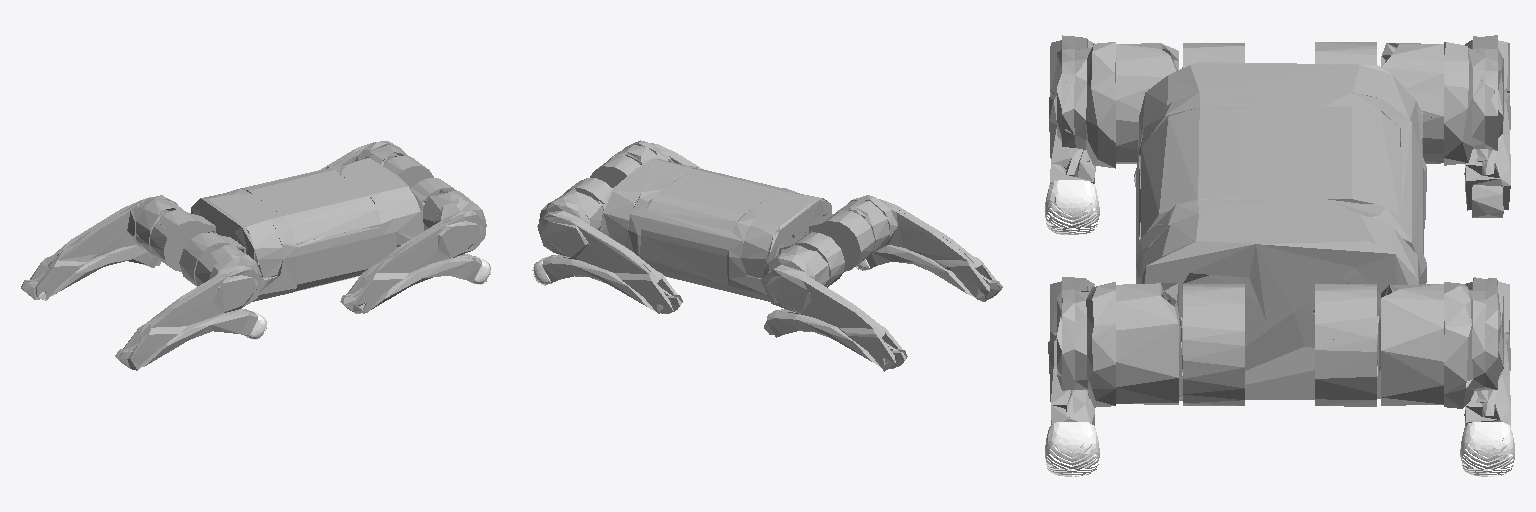
URDF robot description (orix_dog):
<?xml version="1.0" encoding="utf-8"?>
<!-- This URDF was automatically created by SolidWorks to URDF Exporter! Originally created by Stephen Brawner (brawner@gmail.com)
     Commit Version: 1.6.0-4-g7f85cfe  Build Version: 1.6.7995.38578
     For more information, please see http://wiki.ros.org/sw_urdf_exporter -->
<!-- Collision geometry simplified (mesh → primitives) and joint limits updated to match Unitree Go2 -->
<robot name="orix_dog">
  <link name="base_link">
    <inertial>
      <origin xyz="-3.53434898476834E-05 0.00768766575415091 0.055927696956682" rpy="0 0 0" />
      <mass value="7.50787749444963" />
      <inertia ixx="0.052694" ixy="0.000021" ixz="0.000014" iyy="0.089762" iyz="-0.002754" izz="0.082976" />
    </inertial>
    <visual>
      <origin xyz="0 0 0" rpy="0 0 0" />
      <geometry>
        <mesh filename="package://orix_dog/meshes/base_link.STL" />
      </geometry>
      <material name="">
        <color rgba="0.752941176470588 0.752941176470588 0.752941176470588 1" />
      </material>
    </visual>
    <collision>
      <origin xyz="0 0.000 0.06" rpy="0 0 0" />
      <geometry>
        <box size="0.297 0.192 0.126" />
      </geometry>
    </collision>
  </link>

  <!-- ==================== FL (Front Left) ==================== -->
  <link name="FL_hip">
    <inertial>
      <origin xyz="0.049604 0.002125 0.000069" rpy="0 0 0" />
      <mass value="0.635130" />
      <inertia ixx="0.000346" ixy="-0.000068" ixz="-0.000002" iyy="0.002104" iyz="0" izz="0.001927" />
    </inertial>
    <visual>
      <origin xyz="0 0 0" rpy="0 0 0" />
      <geometry>
        <mesh filename="package://orix_dog/meshes/FL_hip.STL" />
      </geometry>
      <material name="">
        <color rgba="0.752941176470588 0.752941176470588 0.752941176470588 1" />
      </material>
    </visual>
    <collision>
      <origin xyz="0.05 0.030 0" rpy="0 1.5707963267948966 1.5707963267948966" />
      <geometry>
        <cylinder radius="0.042" length="0.109" />
      </geometry>
    </collision>
  </link>
  <joint name="FL_hip_joint" type="revolute">
    <origin xyz="0.1485 0.0460668273524311 0.065138363032664" rpy="0 0 0" />
    <parent link="base_link" />
    <child link="FL_hip" />
    <axis xyz="-1 0 0" />
    <limit lower="-0.5" upper="0.5" effort="18" velocity="35" />
  </joint>

  <link name="FL_thigh">
    <inertial>
      <origin xyz="-0.031688 0.047208 -0.009412" rpy="0 0 0" />
      <mass value="1.178401" />
      <inertia ixx="0.004256" ixy="0.002820" ixz="-0.001738" iyy="0.006966" iyz="0.000819" izz="0.009306" />
    </inertial>
    <visual>
      <origin xyz="0 0 0" rpy="0 0 0" />
      <geometry>
        <mesh filename="package://orix_dog/meshes/FL_thigh.STL" />
      </geometry>
      <material name="">
        <color rgba="0.752941176470588 0.752941176470588 0.752941176470588 1" />
      </material>
    </visual>
    <collision>
      <origin xyz="-0.096 0.075 -0.020" rpy="0 -0.33 0" />
      <geometry>
        <box size="0.22 0.02 0.05" />
      </geometry>
    </collision>
  </link>
  <joint name="FL_thigh_joint" type="revolute">
    <origin xyz="0.0499999999999999 0.0224250000000002 7.2042212115147E-05" rpy="0 0 0" />
    <parent link="FL_hip" />
    <child link="FL_thigh" />
    <axis xyz="0 -1 0" />
    <limit lower="-0.5" upper="1" effort="18" velocity="35" />
  </joint>

  <link name="FL_calf">
    <inertial>
      <origin xyz="0.118474 0.000045 0.013651" rpy="0 0 0" />
      <mass value="0.081961" />
      <inertia ixx="0.000035" ixy="0" ixz="-0.000161" iyy="0.001644" iyz="0" izz="0.001623" />
    </inertial>
    <visual>
      <origin xyz="0 0 0" rpy="0 0 0" />
      <geometry>
        <mesh filename="package://orix_dog/meshes/FL_calf.STL" />
      </geometry>
      <material name="">
        <color rgba="0.752941176470588 0.752941176470588 0.752941176470588 1" />
      </material>
    </visual>
    <collision>
      <origin xyz="0.065 0 0.012" rpy="0 1.35 0" />
      <geometry>
        <cylinder radius="0.013" length="0.13" />
      </geometry>
    </collision>
  </link>
  <joint name="FL_calf_joint" type="revolute">
    <origin xyz="-0.192765120401938 0.0759500000000002 -0.0749761430004586" rpy="0 0 0" />
    <parent link="FL_thigh" />
    <child link="FL_calf" />
    <axis xyz="0 -1 0" />
    <limit lower="-1.7" upper="0" effort="36" velocity="17.5" />
  </joint>

  <link name="FL_calflower">
    <inertial>
      <origin xyz="0 0 0" rpy="0 0 0" />
      <mass value="0.001" />
      <inertia ixx="1e-6" ixy="0" ixz="0" iyy="1e-6" iyz="0" izz="1e-6" />
    </inertial>
    <collision>
      <origin xyz="0.025 0 0.021" rpy="0 1.5707963267948966 0" />
      <geometry>
        <cylinder radius="0.011" length="0.05" />
      </geometry>
    </collision>
  </link>
  <joint name="FL_calflower_joint" type="fixed">
    <origin xyz="0.13 0 0.004" rpy="0 0 0" />
    <parent link="FL_calf" />
    <child link="FL_calflower" />
  </joint>

  <link name="FL_calflower1">
    <inertial>
      <origin xyz="0 0 0" rpy="0 0 0" />
      <mass value="0.001" />
      <inertia ixx="1e-6" ixy="0" ixz="0" iyy="1e-6" iyz="0" izz="1e-6" />
    </inertial>
    <collision>
      <origin xyz="0.01 0.0 0.01" rpy="0 1.9 0" />
      <geometry>
        <cylinder radius="0.0155" length="0.024" />
      </geometry>
    </collision>
  </link>
  <joint name="FL_calflower1_joint" type="fixed">
    <origin xyz="0.05 0 0.003" rpy="0 0 0" />
    <parent link="FL_calflower" />
    <child link="FL_calflower1" />
  </joint>

  <link name="FL_foot">
    <inertial>
      <origin xyz="0.011659 -0.000003 -0.006791" rpy="0 0 0" />
      <mass value="0.015575" />
      <inertia ixx="0.000004" ixy="0" ixz="0.000001" iyy="0.000006" iyz="0" izz="0.000005" />
    </inertial>
    <visual>
      <origin xyz="0 0 0" rpy="0 0 0" />
      <geometry>
        <mesh filename="package://orix_dog/meshes/FL_foot.STL" />
      </geometry>
      <material name="">
        <color rgba="1 1 1 1" />
      </material>
    </visual>
    <collision>
      <origin xyz="0.008 0 -0.004" rpy="0 0 0" />
      <geometry>
        <sphere radius="0.022" />
      </geometry>
    </collision>
  </link>
  <joint name="FL_foot_joint" type="fixed">
    <origin xyz="0.023594 0 0.002231" rpy="0 0 0" />
    <parent link="FL_calflower1" />
    <child link="FL_foot" />

  </joint>

  <!-- ==================== RL (Rear Left) ==================== -->
  <link name="RL_hip">
    <inertial>
      <origin xyz="-0.049526 0.001759 -0.000065" rpy="0 0 0" />
      <mass value="0.635130" />
      <inertia ixx="0.000343" ixy="0.000057" ixz="-0.000002" iyy="0.002099" iyz="0" izz="0.001920" />
    </inertial>
    <visual>
      <origin xyz="0 0 0" rpy="0 0 0" />
      <geometry>
        <mesh filename="package://orix_dog/meshes/RL_hip.STL" />
      </geometry>
      <material name="">
        <color rgba="0.752941176470588 0.752941176470588 0.752941176470588 1" />
      </material>
    </visual>
    <collision>
      <origin xyz="-0.05 0.030 0" rpy="0 1.5707963267948966 1.5707963267948966" />
      <geometry>
        <cylinder radius="0.042" length="0.109" />
      </geometry>
    </collision>
  </link>
  <joint name="RL_hip_joint" type="revolute">
    <origin xyz="-0.1485 0.04606682735243 0.065138363032664" rpy="0 0 0" />
    <parent link="base_link" />
    <child link="RL_hip" />
    <axis xyz="1 0 0" />
    <limit lower="-0.5" upper="0.5" effort="18" velocity="35" />
  </joint>

  <link name="RL_thigh">
    <inertial>
      <origin xyz="-0.031688 0.047708 -0.009340" rpy="0 0 0" />
      <mass value="1.178401" />
      <inertia ixx="0.004311" ixy="0.002839" ixz="-0.001735" iyy="0.006964" iyz="0.000821" izz="0.009362" />
    </inertial>
    <visual>
      <origin xyz="0 0 0" rpy="0 0 0" />
      <geometry>
        <mesh filename="package://orix_dog/meshes/RL_thigh.STL" />
      </geometry>
      <material name="">
        <color rgba="0.752941176470588 0.752941176470588 0.752941176470588 1" />
      </material>
    </visual>
    <collision>
      <origin xyz="-0.096 0.075 -0.020" rpy="0 -0.33 0" />
      <geometry>
        <box size="0.22 0.02 0.05" />
      </geometry>
    </collision>
  </link>
  <joint name="RL_thigh_joint" type="revolute">
    <origin xyz="-0.0499999999999999 0.0219250000000004 0" rpy="0 0 0" />
    <parent link="RL_hip" />
    <child link="RL_thigh" />
    <axis xyz="0 -1 0" />
    <limit lower="-0.5" upper="1" effort="18" velocity="35" />
  </joint>

  <link name="RL_calf">
    <inertial>
      <origin xyz="0.118474 0.000045 0.013651" rpy="0 0 0" />
      <mass value="0.081961" />
      <inertia ixx="0.000035" ixy="0" ixz="-0.000161" iyy="0.001644" iyz="0" izz="0.001623" />
    </inertial>
    <visual>
      <origin xyz="0 0 0" rpy="0 0 0" />
      <geometry>
        <mesh filename="package://orix_dog/meshes/RL_calf.STL" />
      </geometry>
      <material name="">
        <color rgba="0.752941176470588 0.752941176470588 0.752941176470588 1" />
      </material>
    </visual>
    <collision>
      <origin xyz="0.065 0 0.012" rpy="0 1.35 0" />
      <geometry>
        <cylinder radius="0.013" length="0.13" />
      </geometry>
    </collision>
  </link>
  <joint name="RL_calf_joint" type="revolute">
    <origin xyz="-0.192765120401939 0.0764499999999976 -0.0749041007883436" rpy="0 0 0" />
    <parent link="RL_thigh" />
    <child link="RL_calf" />
    <axis xyz="0 -1 0" />
    <limit lower="-1.7" upper="0" effort="36" velocity="17.5" />
  </joint>

  <link name="RL_calflower">
    <inertial>
      <origin xyz="0 0 0" rpy="0 0 0" />
      <mass value="0.001" />
      <inertia ixx="1e-6" ixy="0" ixz="0" iyy="1e-6" iyz="0" izz="1e-6" />
    </inertial>
    <collision>
      <origin xyz="0.025 0 0.021" rpy="0 1.5707963267948966 0" />
      <geometry>
        <cylinder radius="0.011" length="0.05" />
      </geometry>
    </collision>
  </link>
  <joint name="RL_calflower_joint" type="fixed">
    <origin xyz="0.13 0 0.004" rpy="0 0 0" />
    <parent link="RL_calf" />
    <child link="RL_calflower" />
  </joint>

  <link name="RL_calflower1">
    <inertial>
      <origin xyz="0 0 0" rpy="0 0 0" />
      <mass value="0.001" />
      <inertia ixx="1e-6" ixy="0" ixz="0" iyy="1e-6" iyz="0" izz="1e-6" />
    </inertial>
    <collision>
      <origin xyz="0.01 0.0 0.01" rpy="0 1.9 0" />
      <geometry>
        <cylinder radius="0.0155" length="0.024" />
      </geometry>
    </collision>
  </link>
  <joint name="RL_calflower1_joint" type="fixed">
    <origin xyz="0.05 0 0.003" rpy="0 0 0" />
    <parent link="RL_calflower" />
    <child link="RL_calflower1" />
  </joint>

  <link name="RL_foot">
    <inertial>
      <origin xyz="0.011659 -0.000003 -0.006791" rpy="0 0 0" />
      <mass value="0.015575" />
      <inertia ixx="0.000004" ixy="0" ixz="0.000001" iyy="0.000006" iyz="0" izz="0.000005" />
    </inertial>
    <visual>
      <origin xyz="0 0 0" rpy="0 0 0" />
      <geometry>
        <mesh filename="package://orix_dog/meshes/RL_foot.STL" />
      </geometry>
      <material name="">
        <color rgba="1 1 1 1" />
      </material>
    </visual>
    <collision>
      <origin xyz="0.008 0 -0.004" rpy="0 0 0" />
      <geometry>
        <sphere radius="0.022" />
      </geometry>
    </collision>
  </link>
  <joint name="RL_foot_joint" type="fixed">
    <origin xyz="0.023594 0 0.002231" rpy="0 0 0" />
    <parent link="RL_calflower1" />
    <child link="RL_foot" />

  </joint>

  <!-- ==================== FR (Front Right) ==================== -->
  <link name="FR_hip">
    <inertial>
      <origin xyz="0.049604 -0.001759 0.000003" rpy="0 0 0" />
      <mass value="0.635130" />
      <inertia ixx="0.000344" ixy="0.000057" ixz="0" iyy="0.002104" iyz="0" izz="0.001925" />
    </inertial>
    <visual>
      <origin xyz="0 0 0" rpy="0 0 0" />
      <geometry>
        <mesh filename="package://orix_dog/meshes/FR_hip.STL" />
      </geometry>
      <material name="">
        <color rgba="0.752941176470588 0.752941176470588 0.752941176470588 1" />
      </material>
    </visual>
    <collision>
      <origin xyz="0.05 -0.030 0" rpy="0 1.5707963267948966 1.5707963267948966" />
      <geometry>
        <cylinder radius="0.042" length="0.109" />
      </geometry>
    </collision>
  </link>
  <joint name="FR_hip_joint" type="revolute">
    <origin xyz="0.1485 -0.0460668273524312 0.065138363032664" rpy="0 0 0" />
    <parent link="base_link" />
    <child link="FR_hip" />
    <axis xyz="-1 0 0" />
    <limit lower="-0.5" upper="0.5" effort="18" velocity="35" />
  </joint>

  <link name="FR_thigh">
    <inertial>
      <origin xyz="-0.031508 -0.048486 -0.009191" rpy="0 0 0" />
      <mass value="1.211220" />
      <inertia ixx="0.004505" ixy="-0.002901" ixz="-0.001737" iyy="0.006985" iyz="-0.000828" izz="0.009573" />
    </inertial>
    <visual>
      <origin xyz="0 0 0" rpy="0 0 0" />
      <geometry>
        <mesh filename="package://orix_dog/meshes/FR_thigh.STL" />
      </geometry>
      <material name="">
        <color rgba="0.752941176470588 0.752941176470588 0.752941176470588 1" />
      </material>
    </visual>
    <collision>
      <origin xyz="-0.096 -0.075 -0.020" rpy="0 -0.33 0" />
      <geometry>
        <box size="0.22 0.02 0.05" />
      </geometry>
    </collision>
  </link>
  <joint name="FR_thigh_joint" type="revolute">
    <origin xyz="0.0499999999999999 -0.0219250000000007 7.20422121151455E-05" rpy="0 0 0" />
    <parent link="FR_hip" />
    <child link="FR_thigh" />
    <axis xyz="0 1 0" />
    <limit lower="-1" upper="0.5" effort="18" velocity="35" />
  </joint>

  <link name="FR_calf">
    <inertial>
      <origin xyz="0.119293 -0.000045 0.013703" rpy="0 0 0" />
      <mass value="0.081498" />
      <inertia ixx="0.000035" ixy="0" ixz="-0.000161" iyy="0.001645" iyz="0" izz="0.001623" />
    </inertial>
    <visual>
      <origin xyz="0 0 0" rpy="0 0 0" />
      <geometry>
        <mesh filename="package://orix_dog/meshes/FR_calf.STL" />
      </geometry>
      <material name="">
        <color rgba="0.752941176470588 0.752941176470588 0.752941176470588 1" />
      </material>
    </visual>
    <collision>
      <origin xyz="0.065 0 0.012" rpy="0 1.35 0" />
      <geometry>
        <cylinder radius="0.013" length="0.13" />
      </geometry>
    </collision>
  </link>
  <joint name="FR_calf_joint" type="revolute">
    <origin xyz="-0.192765120401939 -0.0764499999999983 -0.0749761430004586" rpy="0 0 0" />
    <parent link="FR_thigh" />
    <child link="FR_calf" />
    <axis xyz="0 1 0" />
    <limit lower="0" upper="1.7" effort="36" velocity="17.5" />
  </joint>

  <link name="FR_calflower">
    <inertial>
      <origin xyz="0 0 0" rpy="0 0 0" />
      <mass value="0.001" />
      <inertia ixx="1e-6" ixy="0" ixz="0" iyy="1e-6" iyz="0" izz="1e-6" />
    </inertial>
    <collision>
      <origin xyz="0.025 0 0.021" rpy="0 1.5707963267948966 0" />
      <geometry>
        <cylinder radius="0.011" length="0.05" />
      </geometry>
    </collision>
  </link>
  <joint name="FR_calflower_joint" type="fixed">
    <origin xyz="0.13 0 0.004" rpy="0 0 0" />
    <parent link="FR_calf" />
    <child link="FR_calflower" />
  </joint>

  <link name="FR_calflower1">
    <inertial>
      <origin xyz="0 0 0" rpy="0 0 0" />
      <mass value="0.001" />
      <inertia ixx="1e-6" ixy="0" ixz="0" iyy="1e-6" iyz="0" izz="1e-6" />
    </inertial>
    <collision>
      <origin xyz="0.01 0.0 0.01" rpy="0 1.9 0" />
      <geometry>
        <cylinder radius="0.0155" length="0.024" />
      </geometry>
    </collision>
  </link>
  <joint name="FR_calflower1_joint" type="fixed">
    <origin xyz="0.05 0 0.003" rpy="0 0 0" />
    <parent link="FR_calflower" />
    <child link="FR_calflower1" />
  </joint>

  <link name="FR_foot">
    <inertial>
      <origin xyz="0.011654 0.000003 -0.006793" rpy="0 0 0" />
      <mass value="0.015572" />
      <inertia ixx="0.000004" ixy="0" ixz="0.000001" iyy="0.000006" iyz="0" izz="0.000005" />
    </inertial>
    <visual>
      <origin xyz="0 0 0" rpy="0 0 0" />
      <geometry>
        <mesh filename="package://orix_dog/meshes/FR_foot.STL" />
      </geometry>
      <material name="">
        <color rgba="1 1 1 1" />
      </material>
    </visual>
    <collision>
      <origin xyz="0.008 0 -0.004" rpy="0 0 0" />
      <geometry>
        <sphere radius="0.022" />
      </geometry>
    </collision>
  </link>
  <joint name="FR_foot_joint" type="fixed">
    <origin xyz="0.023597 0 0.002236" rpy="0 0 0" />
    <parent link="FR_calflower1" />
    <child link="FR_foot" />

  </joint>

  <!-- ==================== RR (Rear Right) ==================== -->
  <link name="RR_hip">
    <inertial>
      <origin xyz="-0.049604 -0.001759 -0.000003" rpy="0 0 0" />
      <mass value="0.635130" />
      <inertia ixx="0.000344" ixy="-0.000057" ixz="0" iyy="0.002104" iyz="0" izz="0.001925" />
    </inertial>
    <visual>
      <origin xyz="0 0 0" rpy="0 0 0" />
      <geometry>
        <mesh filename="package://orix_dog/meshes/RR_hip.STL" />
      </geometry>
      <material name="">
        <color rgba="0.752941176470588 0.752941176470588 0.752941176470588 1" />
      </material>
    </visual>
    <collision>
      <origin xyz="-0.05 -0.030 0" rpy="0 1.5707963267948966 1.5707963267948966" />
      <geometry>
        <cylinder radius="0.042" length="0.109" />
      </geometry>
    </collision>
  </link>
  <joint name="RR_hip_joint" type="revolute">
    <origin xyz="-0.1485 -0.0460668273524309 0.0651383630326657" rpy="0 0 0" />
    <parent link="base_link" />
    <child link="RR_hip" />
    <axis xyz="1 0 0" />
    <limit lower="-0.5" upper="0.5" effort="18" velocity="35" />
  </joint>

  <link name="RR_thigh">
    <inertial>
      <origin xyz="-0.031508 -0.048486 -0.009191" rpy="0 0 0" />
      <mass value="1.211220" />
      <inertia ixx="0.004505" ixy="-0.002901" ixz="-0.001737" iyy="0.006985" iyz="-0.000828" izz="0.009573" />
    </inertial>
    <visual>
      <origin xyz="0 0 0" rpy="0 0 0" />
      <geometry>
        <mesh filename="package://orix_dog/meshes/RR_thigh.STL" />
      </geometry>
      <material name="">
        <color rgba="0.752941176470588 0.752941176470588 0.752941176470588 1" />
      </material>
    </visual>
    <collision>
      <origin xyz="-0.096 -0.075 -0.020" rpy="0 -0.33 0" />
      <geometry>
        <box size="0.22 0.02 0.05" />
      </geometry>
    </collision>
  </link>
  <joint name="RR_thigh_joint" type="revolute">
    <origin xyz="-0.0500000019786446 -0.0219250000000007 7.20418620543355E-05" rpy="0 0 0" />
    <parent link="RR_hip" />
    <child link="RR_thigh" />
    <axis xyz="0 1 0" />
    <limit lower="-1" upper="0.5" effort="18" velocity="35" />
  </joint>

  <link name="RR_calf">
    <inertial>
      <origin xyz="0.119293 -0.000045 0.013703" rpy="0 0 0" />
      <mass value="0.081498" />
      <inertia ixx="0.000035" ixy="0" ixz="-0.000161" iyy="0.001645" iyz="0" izz="0.001623" />
    </inertial>
    <visual>
      <origin xyz="0 0 0" rpy="0 0 0" />
      <geometry>
        <mesh filename="package://orix_dog/meshes/RR_calf.STL" />
      </geometry>
      <material name="">
        <color rgba="0.752941176470588 0.752941176470588 0.752941176470588 1" />
      </material>
    </visual>
    <collision>
      <origin xyz="0.065 0 0.012" rpy="0 1.35 0" />
      <geometry>
        <cylinder radius="0.013" length="0.13" />
      </geometry>
    </collision>
  </link>
  <joint name="RR_calf_joint" type="revolute">
    <origin xyz="-0.192765114727996 -0.0764499999999951 -0.0749761575882634" rpy="0 0 0" />
    <parent link="RR_thigh" />
    <child link="RR_calf" />
    <axis xyz="0 1 0" />
    <limit lower="0" upper="1.7" effort="36" velocity="17.5" />
  </joint>

  <link name="RR_calflower">
    <inertial>
      <origin xyz="0 0 0" rpy="0 0 0" />
      <mass value="0.001" />
      <inertia ixx="1e-6" ixy="0" ixz="0" iyy="1e-6" iyz="0" izz="1e-6" />
    </inertial>
    <collision>
      <origin xyz="0.025 0 0.021" rpy="0 1.5707963267948966 0" />
      <geometry>
        <cylinder radius="0.011" length="0.05" />
      </geometry>
    </collision>
  </link>
  <joint name="RR_calflower_joint" type="fixed">
    <origin xyz="0.13 0 0.004" rpy="0 0 0" />
    <parent link="RR_calf" />
    <child link="RR_calflower" />
  </joint>

  <link name="RR_calflower1">
    <inertial>
      <origin xyz="0 0 0" rpy="0 0 0" />
      <mass value="0.001" />
      <inertia ixx="1e-6" ixy="0" ixz="0" iyy="1e-6" iyz="0" izz="1e-6" />
    </inertial>
    <collision>
      <origin xyz="0.01 0.0 0.01" rpy="0 1.9 0" />
      <geometry>
        <cylinder radius="0.0155" length="0.024" />
      </geometry>
    </collision>
  </link>
  <joint name="RR_calflower1_joint" type="fixed">
    <origin xyz="0.05 0 0.003" rpy="0 0 0" />
    <parent link="RR_calflower" />
    <child link="RR_calflower1" />
  </joint>

  <link name="RR_foot">
    <inertial>
      <origin xyz="0.011654 0.000003 -0.006793" rpy="0 0 0" />
      <mass value="0.015572" />
      <inertia ixx="0.000004" ixy="0" ixz="0.000001" iyy="0.000006" iyz="0" izz="0.000005" />
    </inertial>
    <visual>
      <origin xyz="0 0 0" rpy="0 0 0" />
      <geometry>
        <mesh filename="package://orix_dog/meshes/RR_foot.STL" />
      </geometry>
      <material name="">
        <color rgba="1 1 1 1" />
      </material>
    </visual>
    <collision>
      <origin xyz="0.008 0 -0.004" rpy="0 0 0" />
      <geometry>
        <sphere radius="0.022" />
      </geometry>
    </collision>
  </link>
  <joint name="RR_foot_joint" type="fixed">
    <origin xyz="0.023597 0 0.002236" rpy="0 0 0" />
    <parent link="RR_calflower1" />
    <child link="RR_foot" />

  </joint>

</robot>

--- Facts derived from the render (not from the file) ---
Views: 3 orthographic renders of the robot side by side, from view 1: azimuth 30°, elevation 25°; view 2: azimuth 150°, elevation 25°; view 3: azimuth 270°, elevation 25°.
Robot: orix_dog — 25 links, 24 joints (12 revolute, 12 fixed); root link base_link; default pose: every joint at zero.
Visible links, largest first — view 1: base_link, RR_thigh, FR_thigh, RL_thigh, RL_hip, RR_calf, FR_calf, RL_calf, RR_hip, FL_thigh, FL_hip, FR_hip; view 2: base_link, RL_thigh, FL_thigh, RR_thigh, RR_hip, RL_calf, FL_calf, RR_calf, RL_hip, FR_thigh, FR_hip, FL_hip; view 3: base_link, FR_thigh, FL_thigh, RR_thigh, RL_thigh, FL_hip, FR_hip, RL_calf, RR_foot, FL_foot, FR_foot, FL_calf (+4 smaller).
Boxes of the visible links, x1,y1,x2,y2 form: base_link: (191,157,423,301); RR_thigh: (118,245,263,370); FR_thigh: (346,191,486,313); RL_thigh: (26,195,183,300); RL_hip: (150,210,215,271); RR_calf: (115,309,257,367); FR_calf: (340,254,480,313); RL_calf: (21,245,161,299); RR_hip: (179,232,245,286); FL_thigh: (321,141,409,169); FL_hip: (383,156,433,188); FR_hip: (411,178,456,206); base_link: (600,159,831,301); RL_thigh: (761,244,902,371); FL_thigh: (537,188,677,313); RR_thigh: (836,195,999,301); RR_hip: (809,211,874,271); RL_calf: (764,309,907,368); FL_calf: (542,254,682,313); RR_calf: (866,245,1002,299); RL_hip: (779,233,844,287); FR_thigh: (609,140,701,168); FR_hip: (590,156,640,187); FL_hip: (563,178,612,208); base_link: (1134,62,1426,400); FR_thigh: (1050,277,1180,407); FL_thigh: (1379,277,1509,408); RR_thigh: (1050,35,1178,168); RL_thigh: (1381,35,1509,165); FL_hip: (1315,284,1378,406); FR_hip: (1182,284,1244,405); RL_calf: (1464,92,1510,217); RR_foot: (1045,180,1099,234); FL_foot: (1460,422,1514,476); FR_foot: (1045,422,1099,476); FL_calf: (1464,333,1510,426).
Size in the robot's own frame: 0.6636 by 0.3274 by 0.1478 metres.
16 mesh visuals loaded from 17 distinct referenced files (16 binary STL); not drawn: 1 (reference not matched to a file when rendering).
